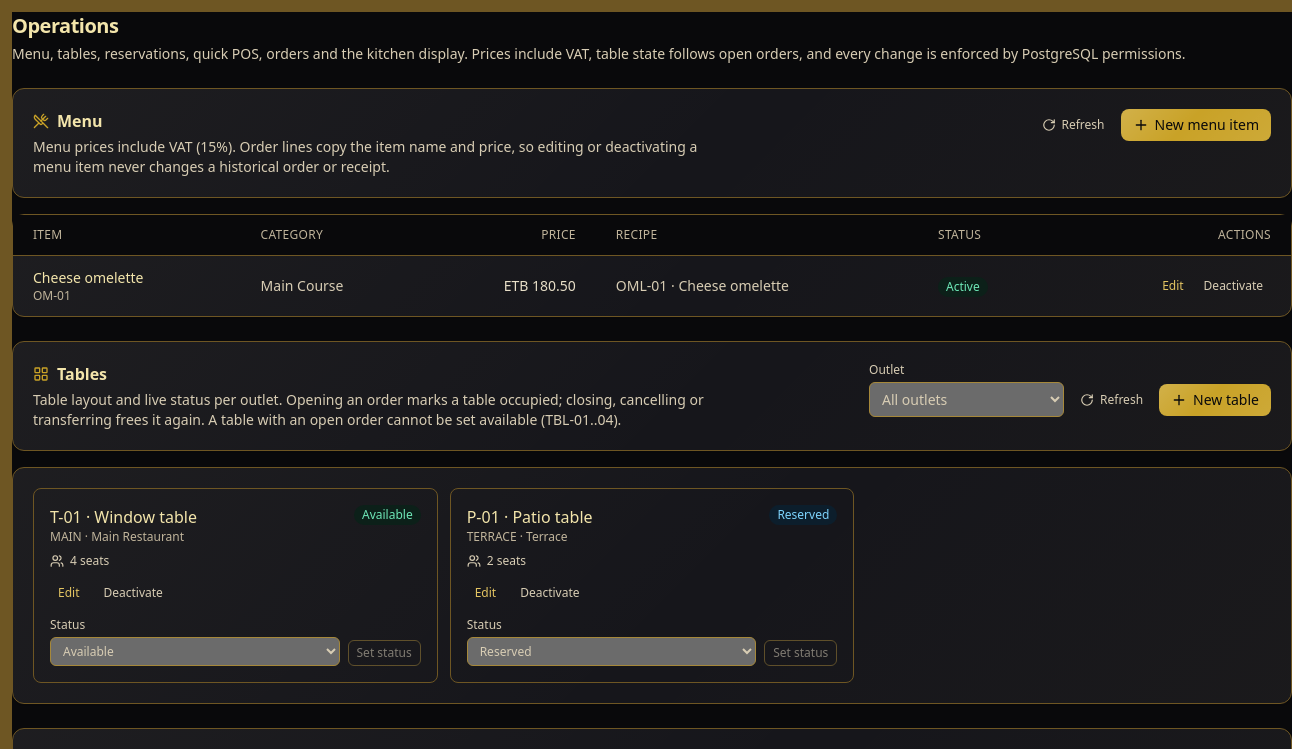
Test: Operations - menus, tables, reservations, orders and kitchen › changes a table status through the role-gated RPC
Expected: the list item "T-01 · Window table" is shown, [33, 488, 438, 683]
Select "Cleaning" in the dropdown named "Status for table T-01" at (195, 652), box [50, 637, 340, 666]
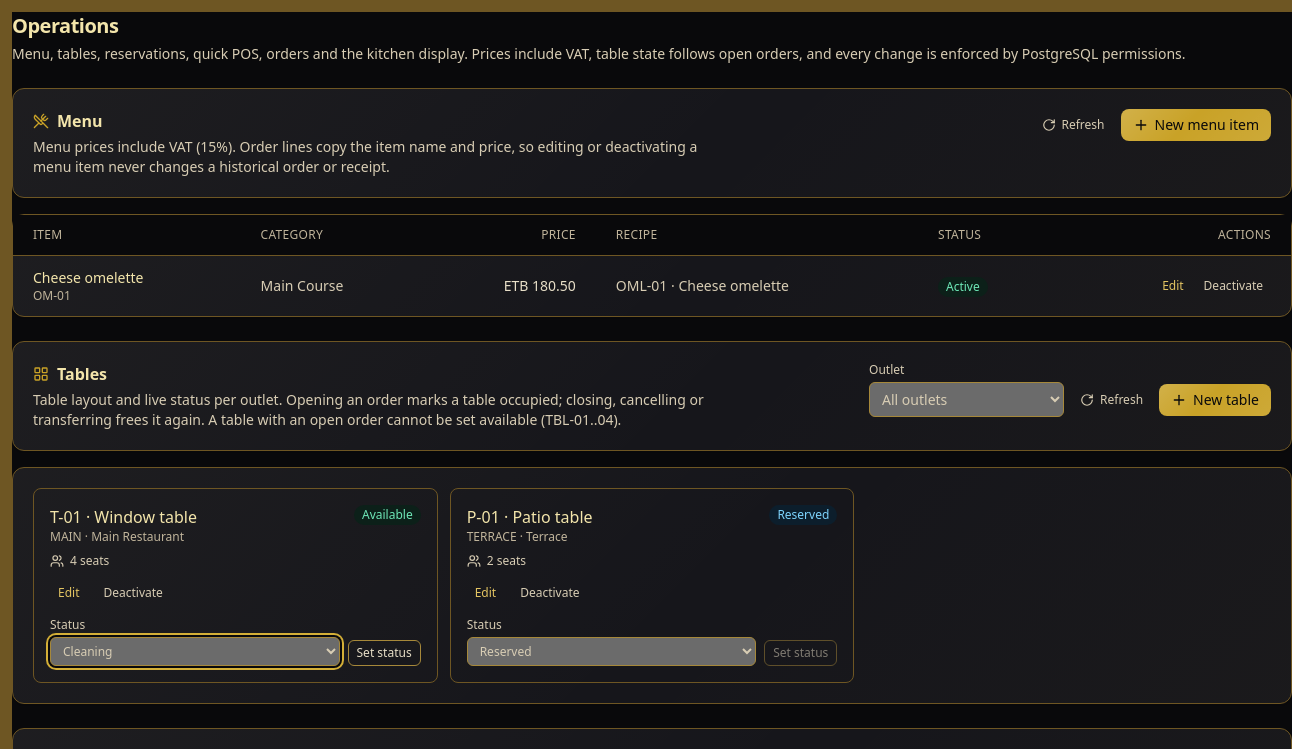
Click the 1st button "Set status" at (384, 653), box [348, 640, 421, 666]
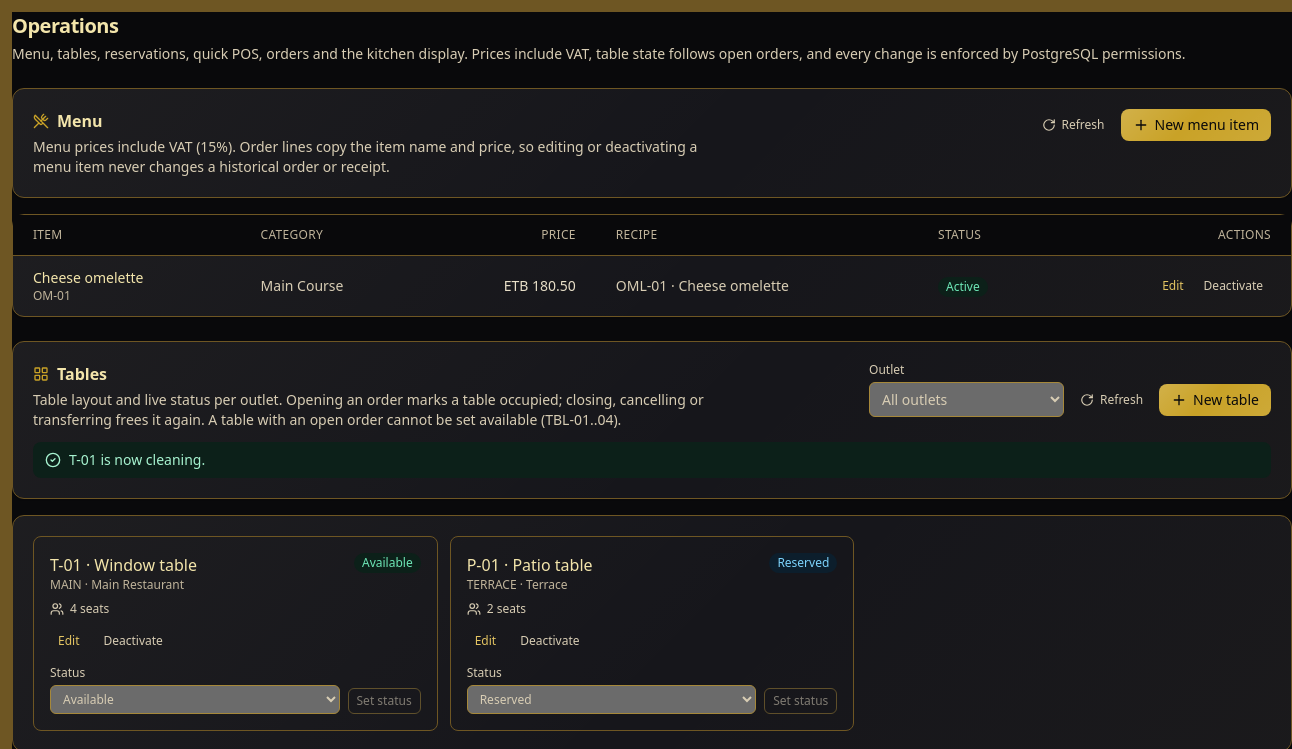
Result: the text "T-01 is now cleaning." is shown at [33, 442, 1271, 478]
